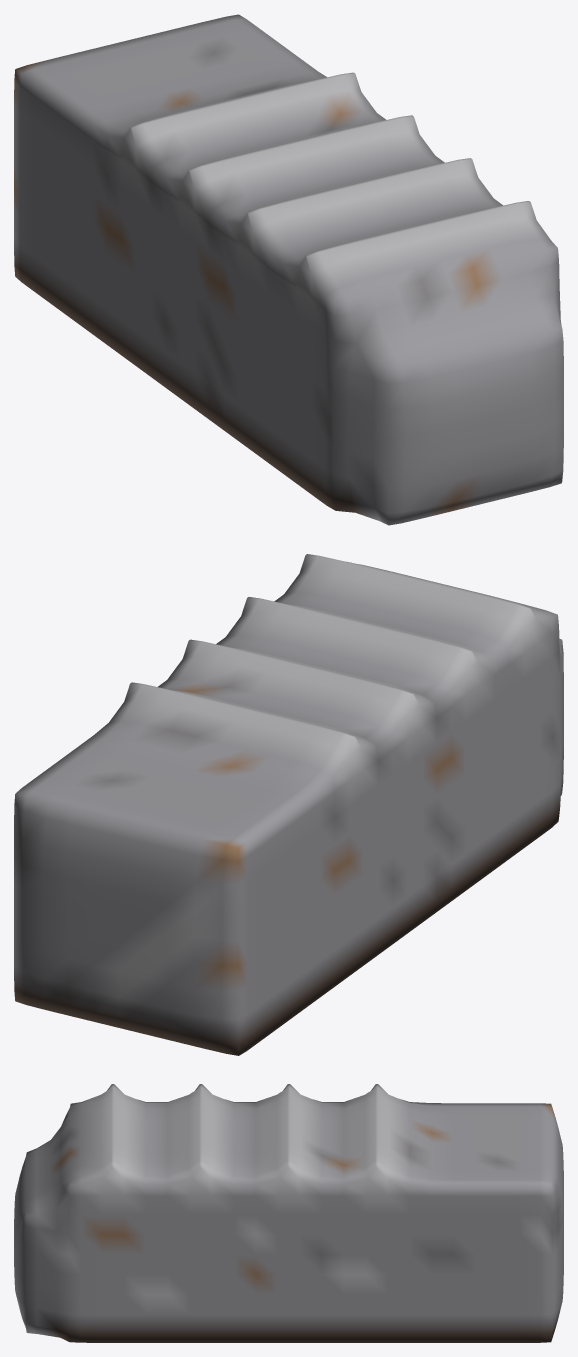
File: plate_uncommon_boot_foot_L.glb
The picture shows the model from 3 angles, top to bottom: view 1: azimuth 30°, elevation 25°; view 2: azimuth 150°, elevation 25°; view 3: azimuth 270°, elevation 25°; orthographic projection. The views are drawn at different scales.
Parts seen in each view (by area): view 1: plate_uncommon_boot_foot_L; view 2: plate_uncommon_boot_foot_L; view 3: plate_uncommon_boot_foot_L.
Boxes of the visible parts, bbox=[...] form: plate_uncommon_boot_foot_L: bbox=[14, 14, 563, 525]; plate_uncommon_boot_foot_L: bbox=[14, 554, 563, 1055]; plate_uncommon_boot_foot_L: bbox=[14, 1084, 563, 1342].
Size of the model in its own units: 0.108 by 0.1076 by 0.3.
